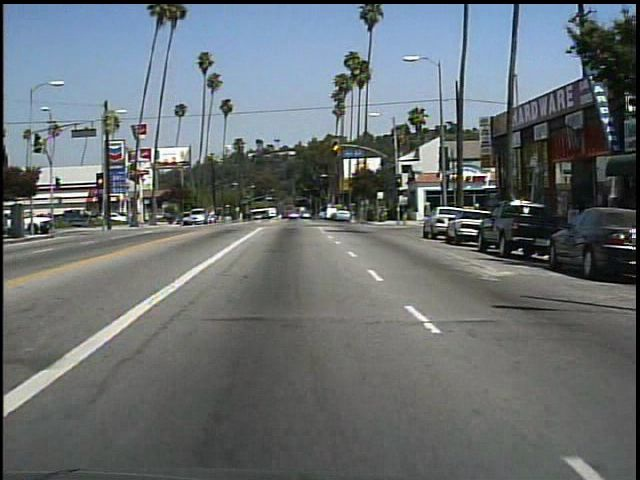person: (417, 196, 438, 222)
